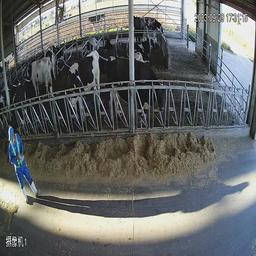cow: (104, 52, 168, 130), (60, 50, 102, 124), (20, 53, 54, 107), (145, 12, 176, 48), (133, 11, 145, 42), (83, 29, 99, 49)
